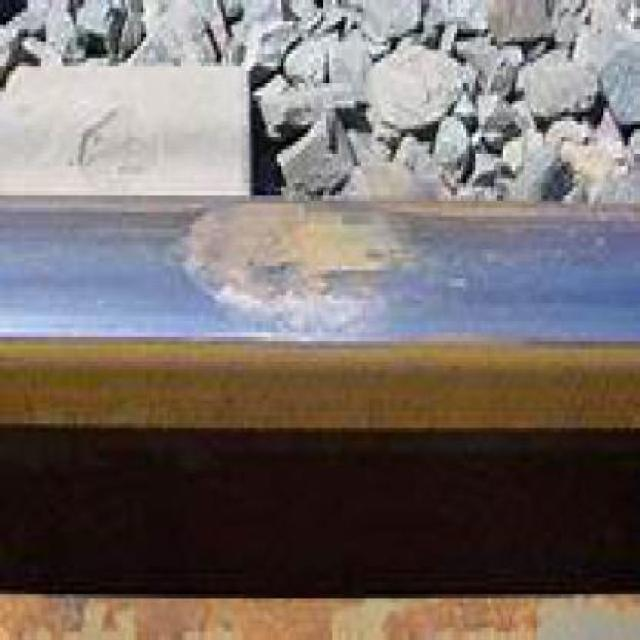defective: (147, 177, 489, 374)
